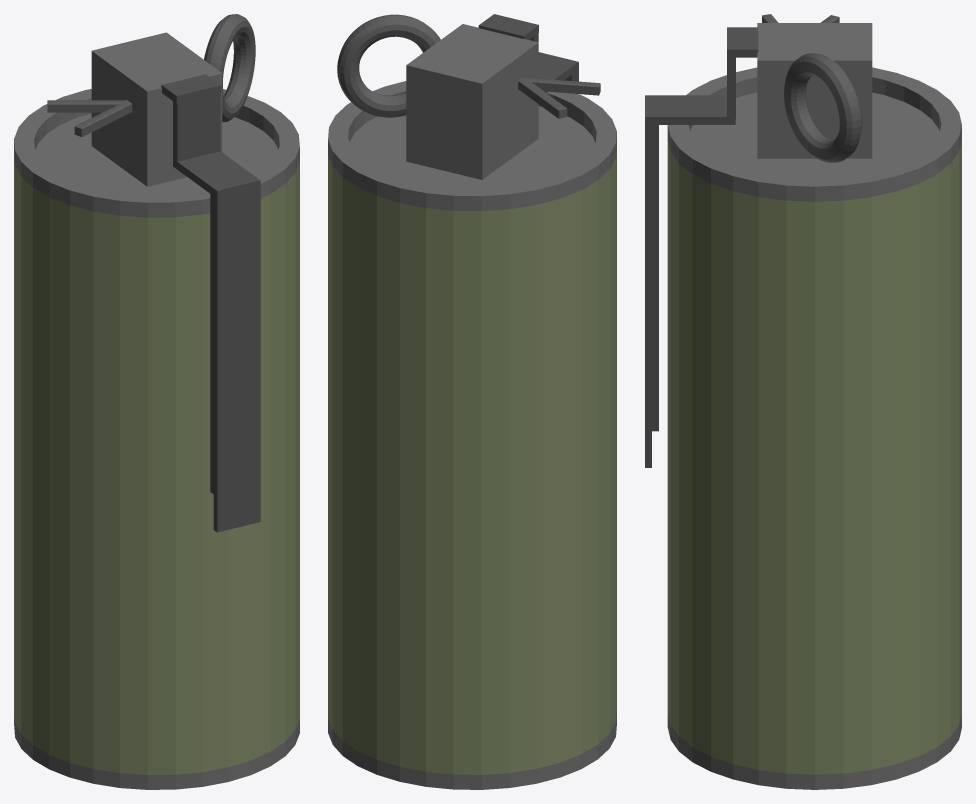
The model's file is AirsoftSmokeGrenade.fbx.
3 renders of one model, left to right at view 1: azimuth 30°, elevation 25°; view 2: azimuth 150°, elevation 25°; view 3: azimuth 270°, elevation 25°, orthographic. The views are drawn at different scales.
Visible parts, largest first — view 1: Base, Lever, Ring; view 2: Base, Ring, Lever; view 3: Base, Lever, Ring.
Part boxes in pixels (left/top/right/bottom): Base: left=14, top=32, right=299, bottom=789; Lever: left=161, top=74, right=260, bottom=532; Ring: left=47, top=14, right=255, bottom=136; Base: left=328, top=24, right=616, bottom=789; Ring: left=337, top=14, right=600, bottom=118; Lever: left=478, top=14, right=578, bottom=93; Base: left=667, top=23, right=961, bottom=789; Lever: left=645, top=27, right=758, bottom=467; Ring: left=762, top=14, right=862, bottom=162.
Size of the model in its own units: 200 by 532 by 216.
